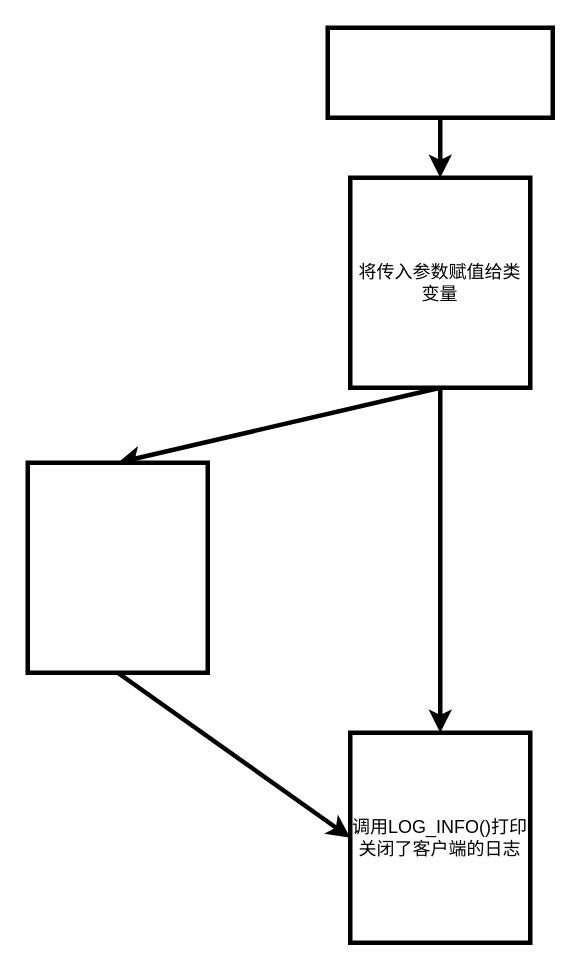
Some shapes in this 581 by 971 pixel diagram are drawn without their labels. The centre of each missing label's shape, as x and y in pixels:
connection_pool::init(): (x=439, y=72)
判断条件:该fd的timer非空 调用del_timer()从定时器链表中删除该定时器: (x=117, y=567)
